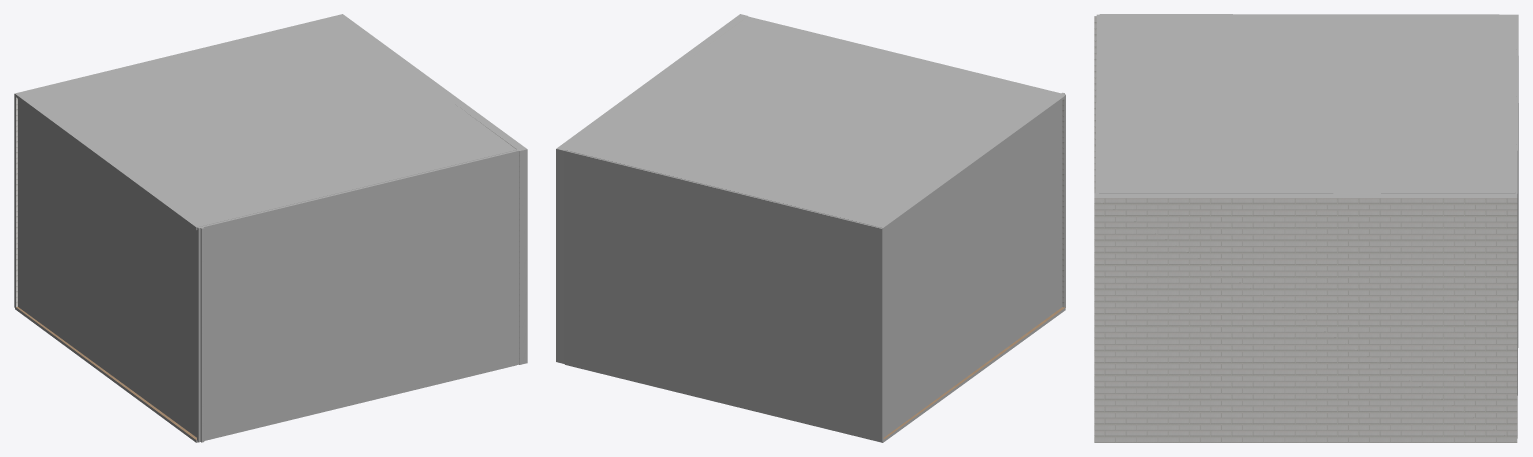
The model's file is Loft_12.gltf.
The picture shows the model from 3 angles, left to right: view 1: azimuth 30°, elevation 25°; view 2: azimuth 150°, elevation 25°; view 3: azimuth 270°, elevation 25°; orthographic projection. The views are drawn at different scales.
Parts seen in each view (by area): view 1: pSphere2; view 2: pSphere2; view 3: pSphere2.
Boxes of the visible parts, box(x1,y1,x2,y2) form: pSphere2: box(14, 14, 527, 442); pSphere2: box(556, 14, 1065, 442); pSphere2: box(1094, 14, 1518, 442).
Bounding box in the file's own units: 4.46 × 2.79 × 4.36.
Materials: 6 (4 with a texture image).
